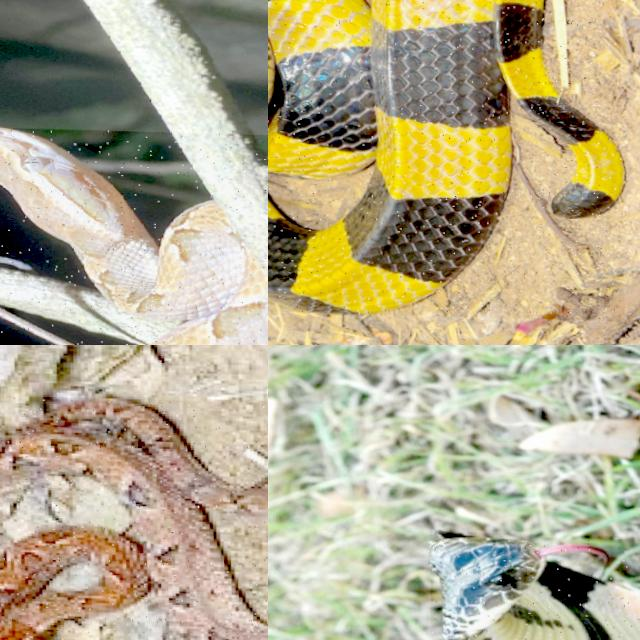Bungarus fasciatus: (268, 0, 623, 313)
Calloselasma rhodostoma: (0, 398, 267, 639), (0, 128, 267, 344)
Naja siamensis: (430, 531, 639, 639)
